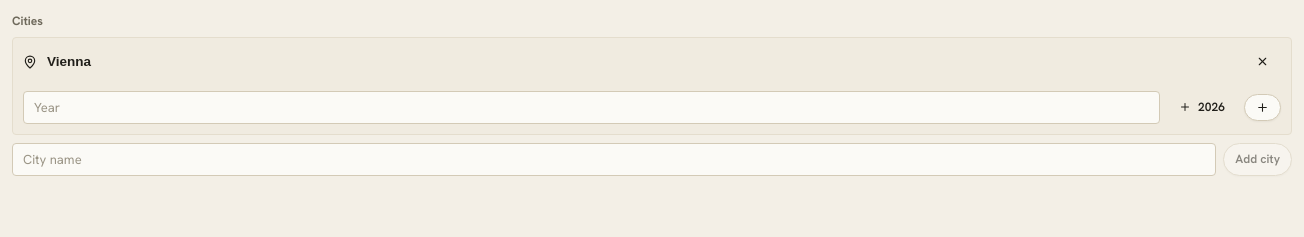
<CityTimeline> bound to the store › rejects an out-of-range year with an inline error and does not commit
In the number field labelled "Year": (592, 108) [23,91,1160,124], type "1800"
Then press Enter
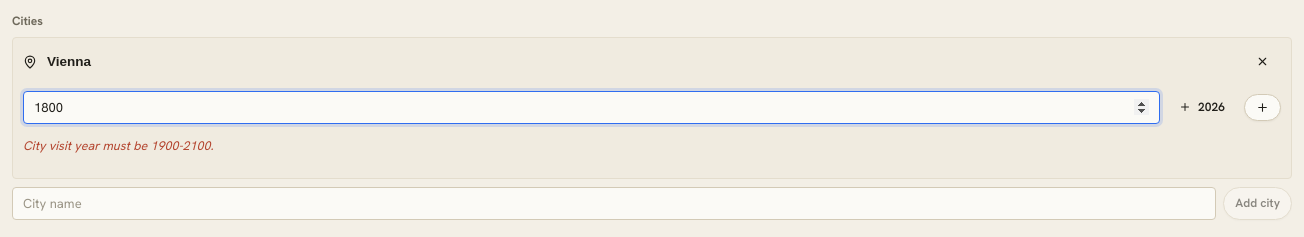
Expected: the text "City visit year must be 1900-2100." is shown, [23,136,214,154]
